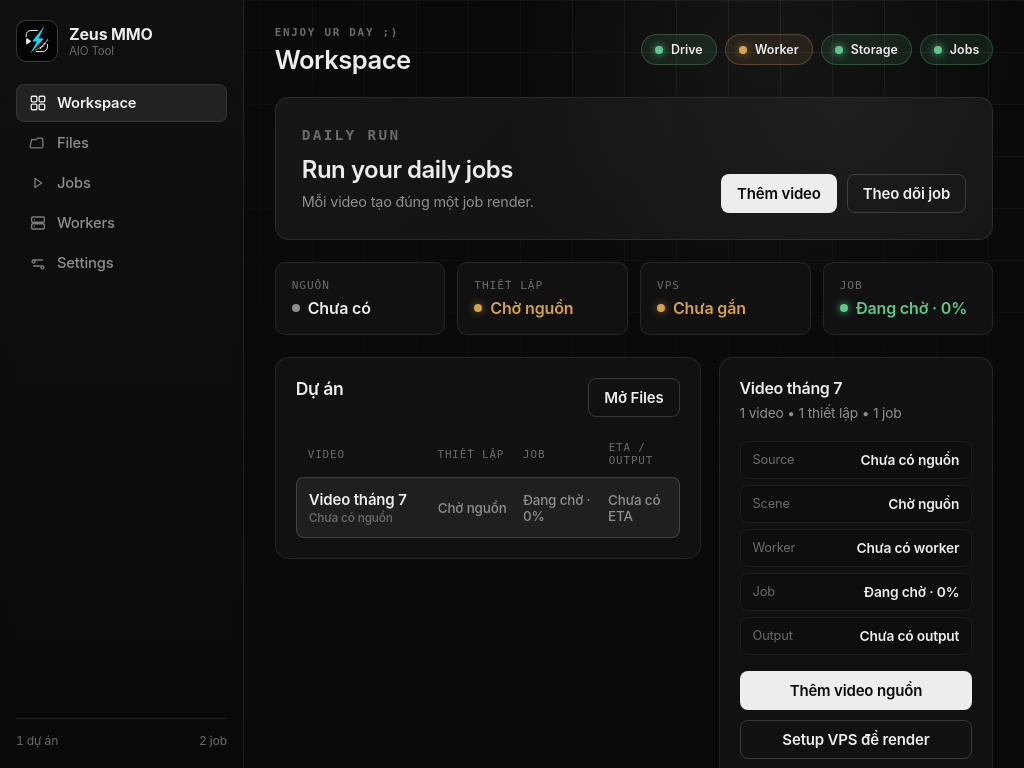
DashboardShell › surfaces jobs and worker setup on their own surfaces
The width and height of the screenshot is (1024, 768).
Expected: the text "Video tháng 7" is shown, [309,490,407,510]
Expected: the text "Đang chờ · 0%" below "ETA / Output" is shown, [523,492,590,524]
Step 1. Click the button "Jobs" → (122, 183), box [16,164,227,202]
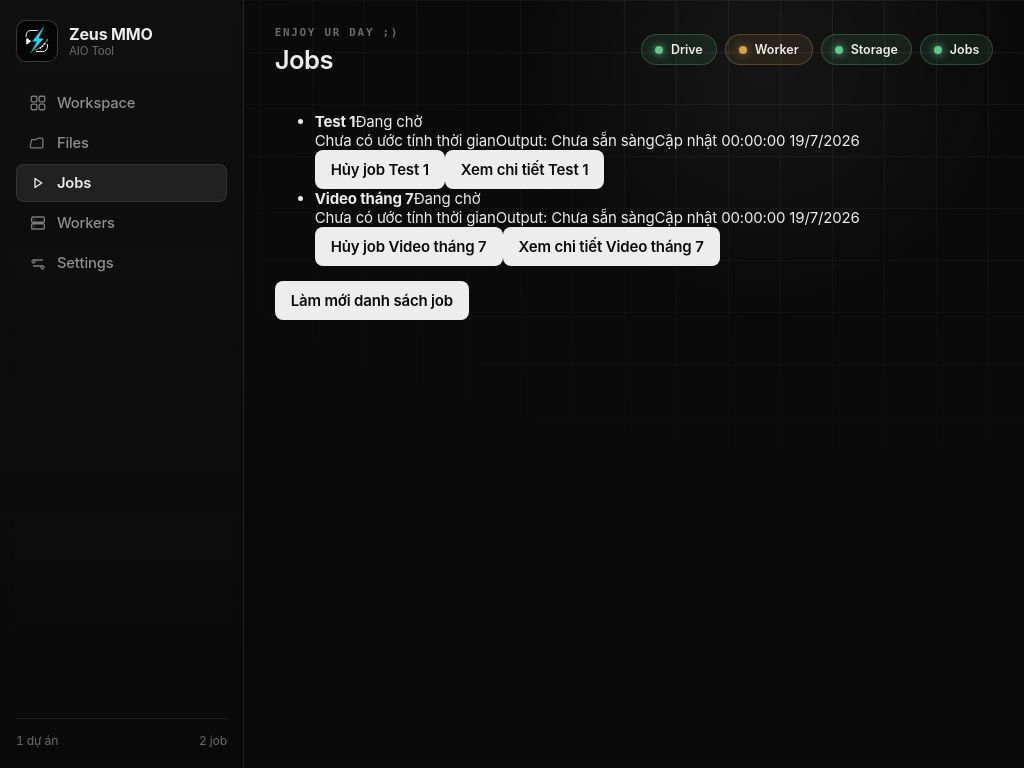
Now the text "Test 1" is shown, box [315,112,355,131]
Step 2. Click the button "Workers" → (122, 223), box [16,204,227,242]
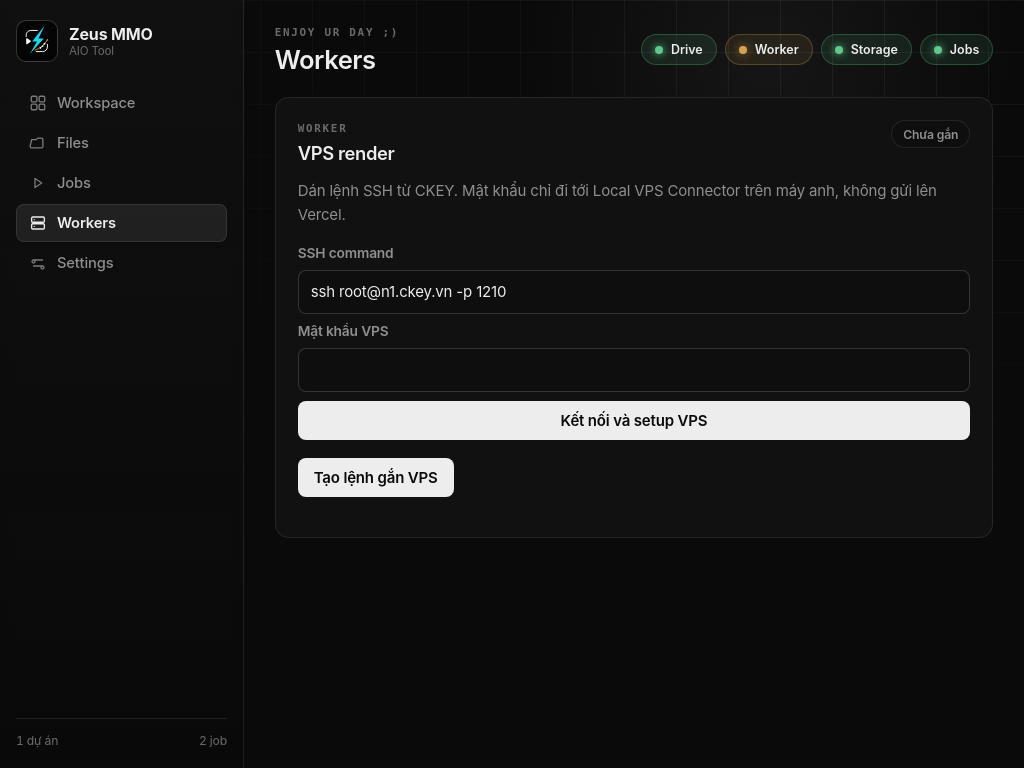
Now the element named "Gắn VPS" is shown, box [275,97,993,538]
Now the button "Tạo lệnh gắn VPS" is enabled, box [298,458,454,497]
Now the text "Chưa gắn" is shown, box [891,120,970,148]
